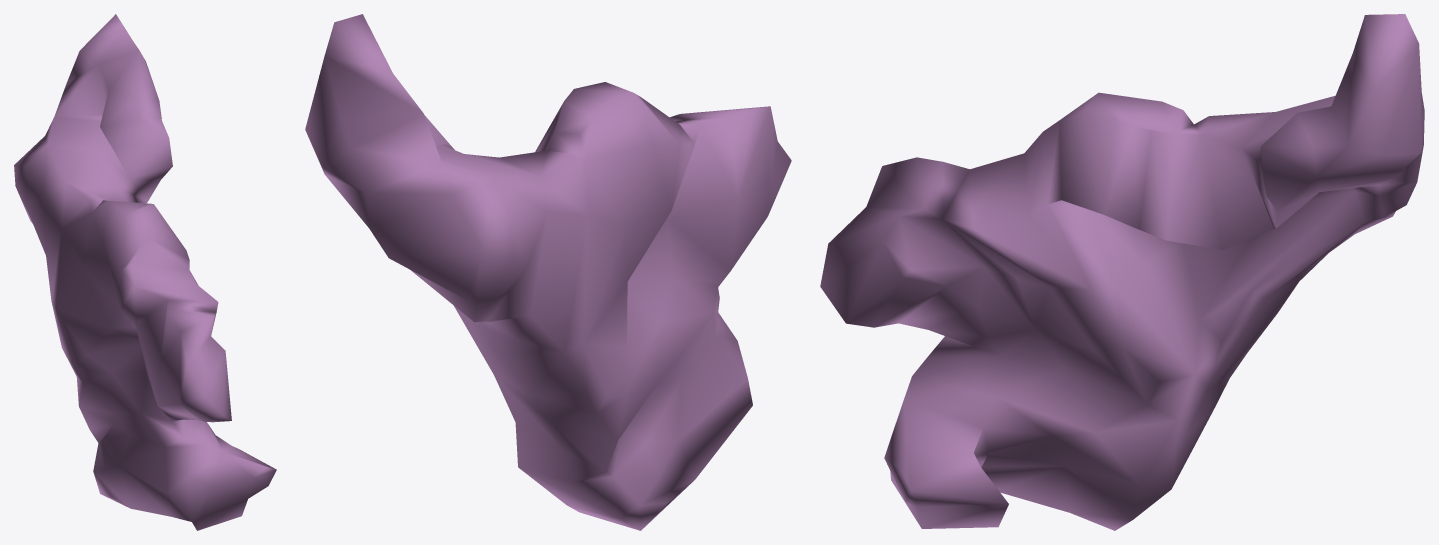
3 renders of one model, left to right at view 1: azimuth 30°, elevation 25°; view 2: azimuth 150°, elevation 25°; view 3: azimuth 270°, elevation 25°, orthographic. The views are drawn at different scales.
Visible parts, largest first — view 1: 左侧扣带回与扣带沟后背侧部; view 2: 左侧扣带回与扣带沟后背侧部; view 3: 左侧扣带回与扣带沟后背侧部.
Boxes of the visible parts, bbox=[...] form: 左侧扣带回与扣带沟后背侧部: bbox=[14, 14, 276, 530]; 左侧扣带回与扣带沟后背侧部: bbox=[305, 14, 791, 530]; 左侧扣带回与扣带沟后背侧部: bbox=[820, 14, 1424, 530].
Bounding box in the file's own units: 0.0193 × 0.0501 × 0.0487.
